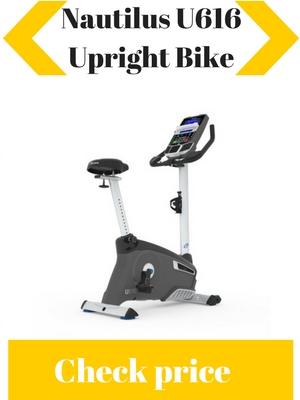gym_bike: (73, 103, 224, 321)
